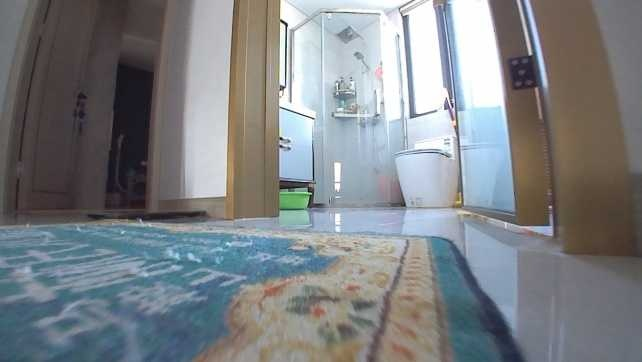blanket: (0, 215, 531, 360)
door_anno: (11, 0, 105, 209)
toilet: (392, 133, 462, 208)
washstand: (277, 99, 319, 189)
